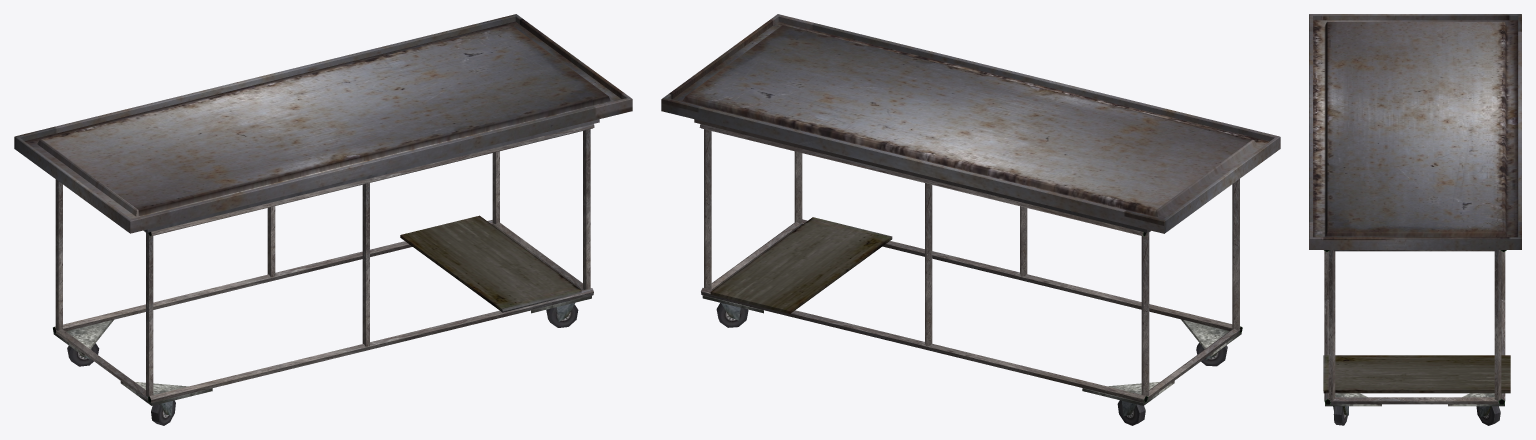
The model's file is lab_autopsy_table01.dae.
The picture shows the model from 3 angles, left to right: view 1: azimuth 30°, elevation 25°; view 2: azimuth 150°, elevation 25°; view 3: azimuth 270°, elevation 25°; orthographic projection. The views are drawn at different scales.
Visible parts, largest first — view 1: table; view 2: table; view 3: table.
Boxes of the visible parts, x1=… form: table: x1=14, y1=14, x2=632, y2=425; table: x1=661, y1=14, x2=1280, y2=425; table: x1=1309, y1=14, x2=1521, y2=425.
Bounding box in the file's own units: 2.5 × 1 × 1.08.
